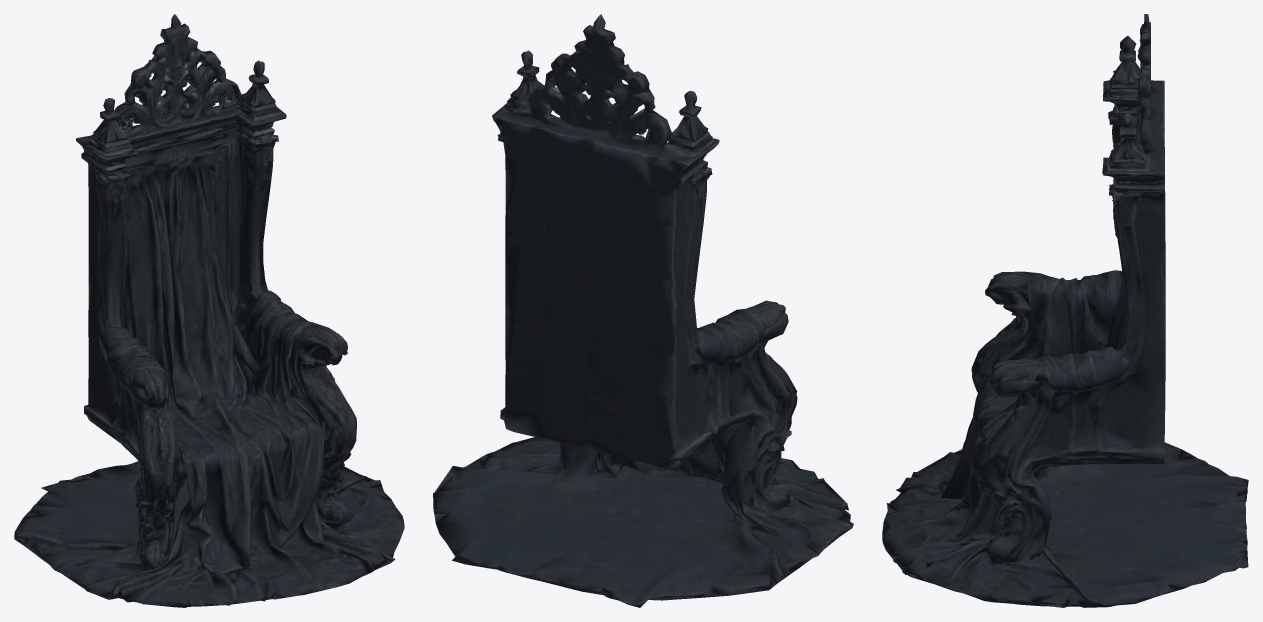
File: chair.glb
The picture shows the model from 3 angles, left to right: view 1: azimuth 30°, elevation 25°; view 2: azimuth 150°, elevation 25°; view 3: azimuth 270°, elevation 25°; orthographic projection. The views are drawn at different scales.
Bounding box in the file's own units: 1.36 × 1.9 × 1.23.
Materials: 1 (1 with a texture image).
